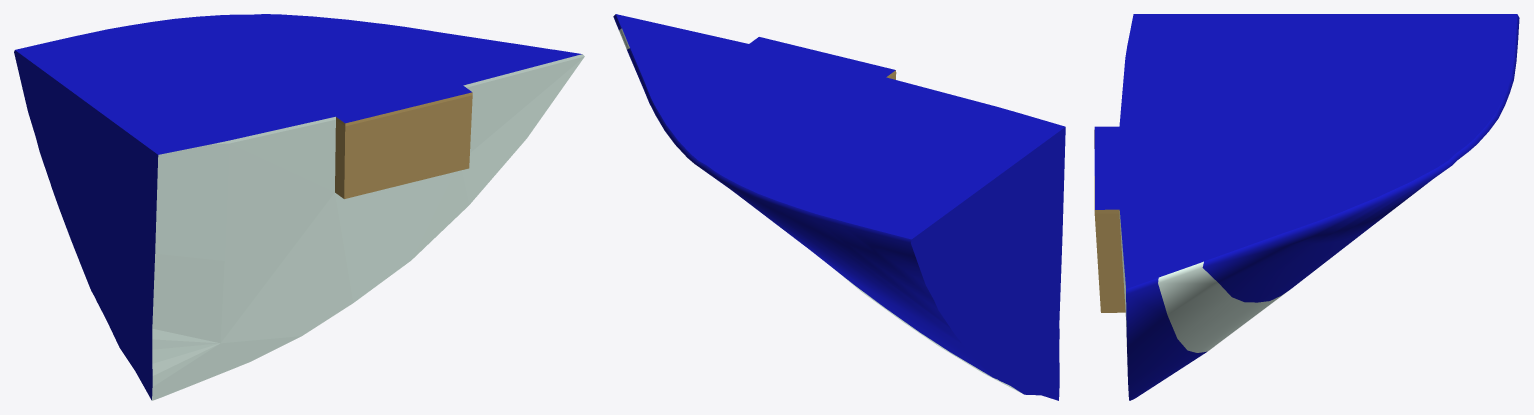
Rendered from frontRight.obj.
3 views of the same model, side by side, from view 1: azimuth 30°, elevation 25°; view 2: azimuth 150°, elevation 25°; view 3: azimuth 270°, elevation 25° (orthographic). The views are drawn at different scales.
Visible parts, largest first — view 1: frontRight_Cabin_Plane.001_Windows.006; view 2: frontRight_Cabin_Plane.001_Windows.006; view 3: frontRight_Cabin_Plane.001_Windows.006.
Part boxes in pixels (bbox=[...]): frontRight_Cabin_Plane.001_Windows.006: bbox=[14, 14, 584, 400]; frontRight_Cabin_Plane.001_Windows.006: bbox=[613, 14, 1065, 400]; frontRight_Cabin_Plane.001_Windows.006: bbox=[1094, 14, 1519, 400].
Bounding box in the file's own units: 1.71 × 0.9669 × 1.11.
